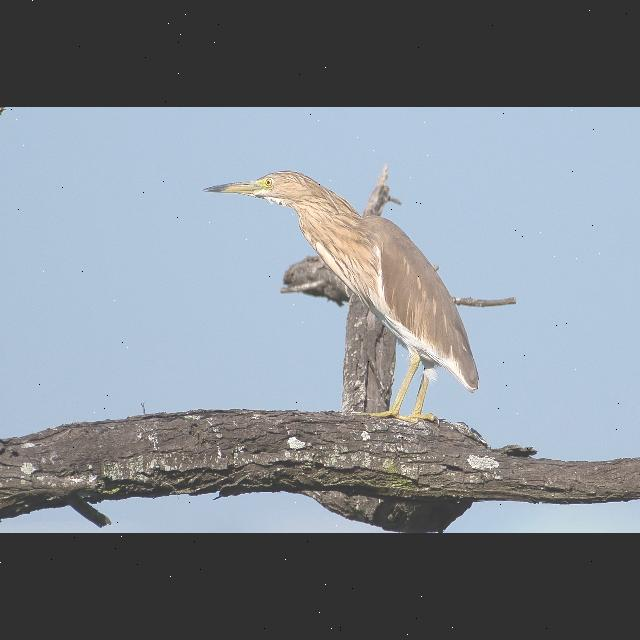heron: (195, 164, 487, 438)
